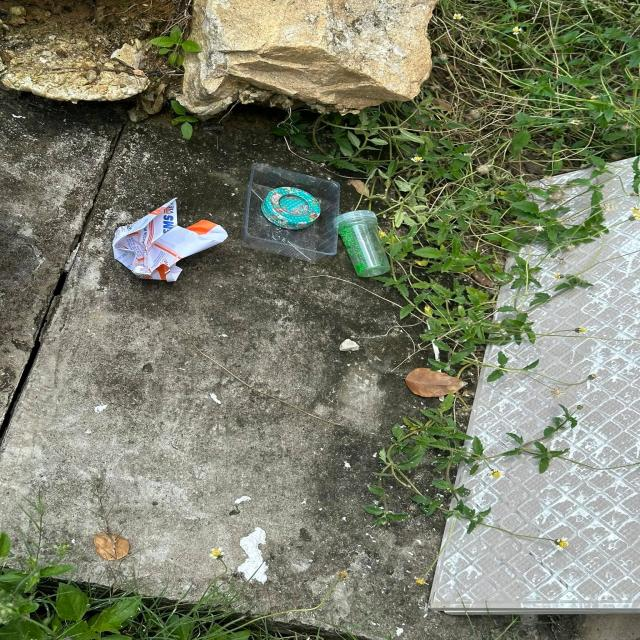paper: (113, 197, 230, 282)
plastic glass: (335, 210, 391, 278)
plastic holder: (239, 162, 341, 264)
